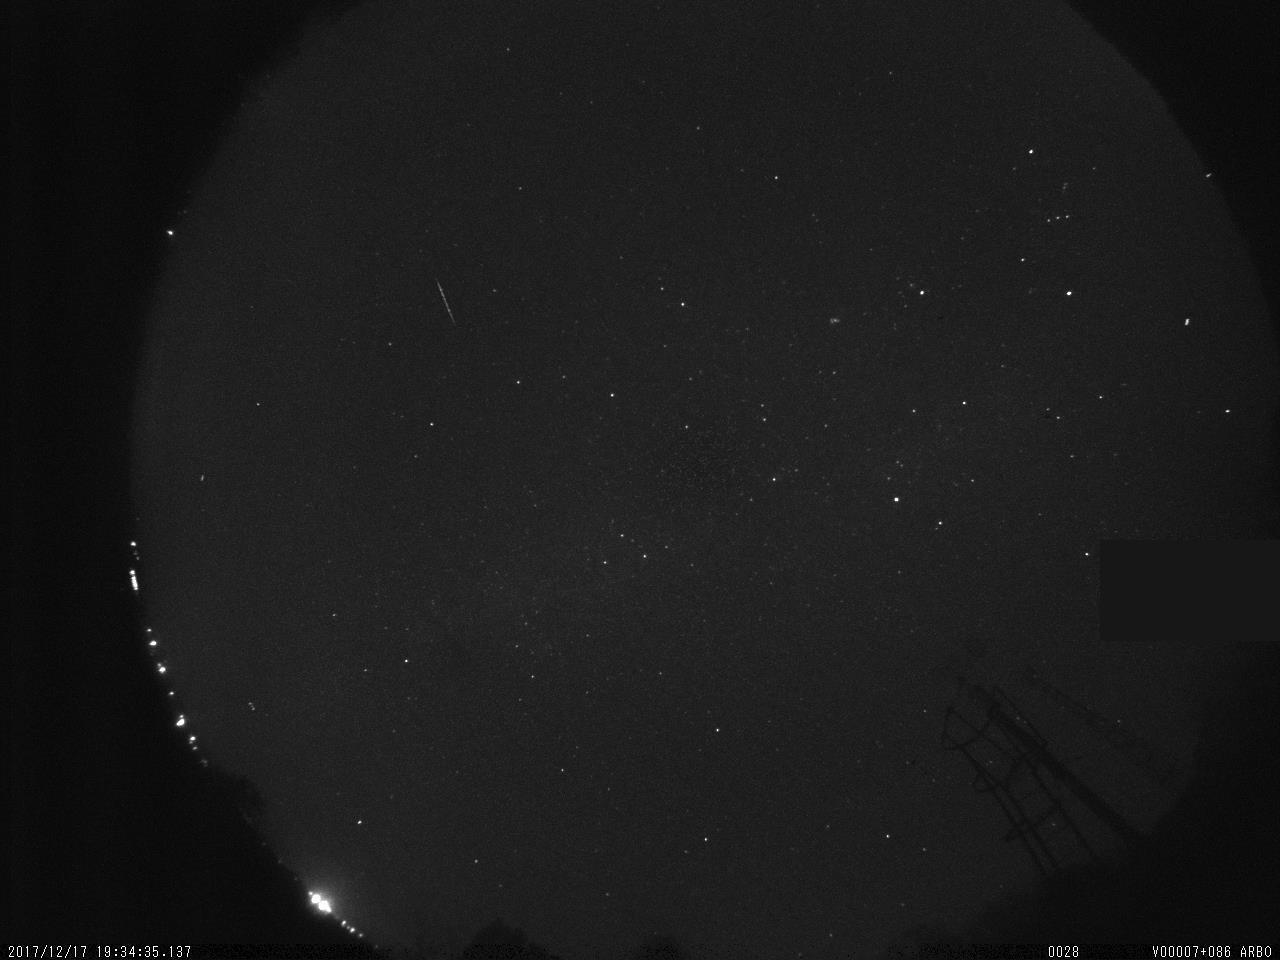meteor: (409, 256, 483, 344)
